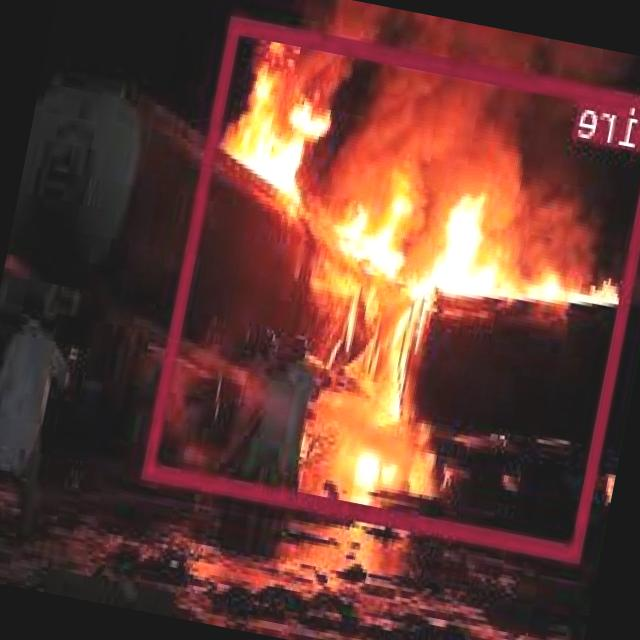fire: (145, 15, 640, 560)
